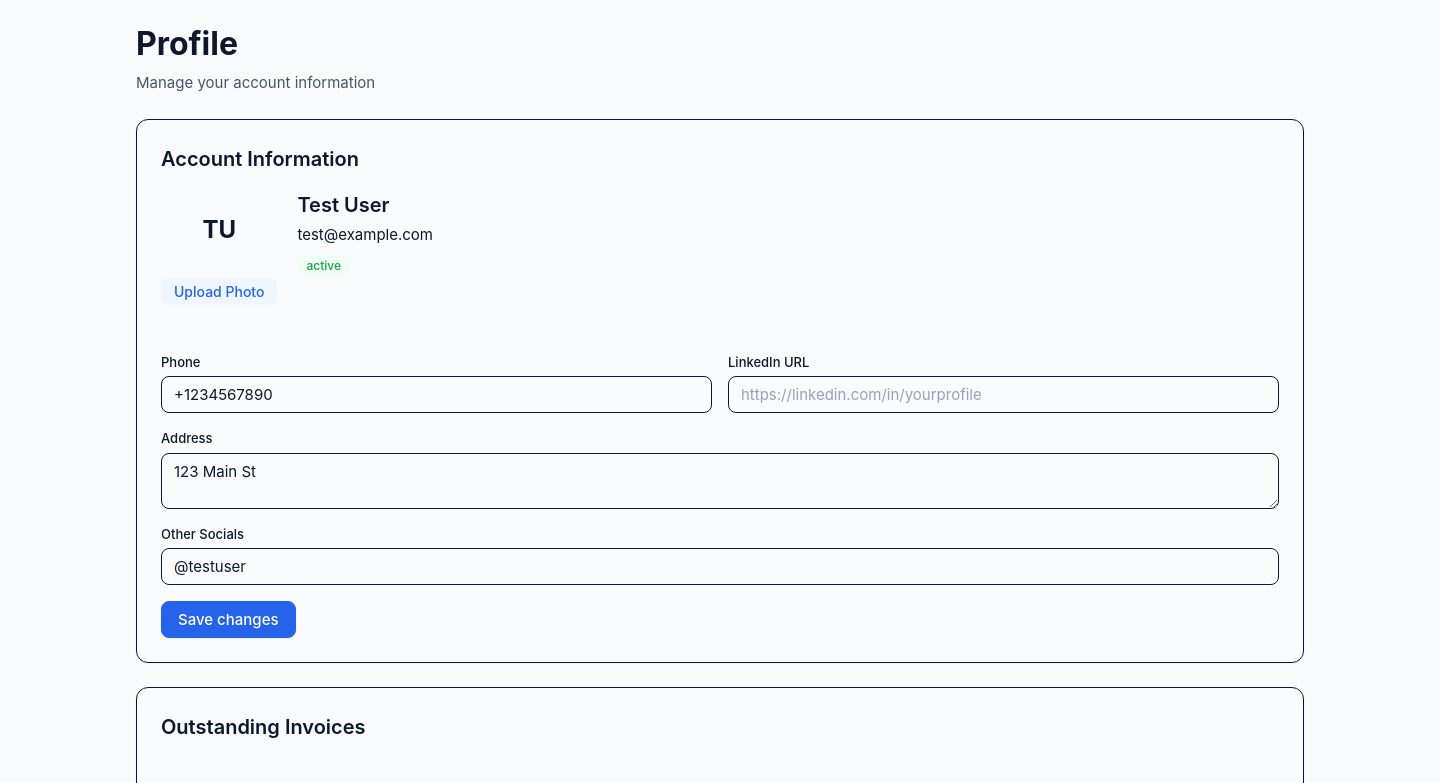
Scenario: ProfilePage › LinkedIn URL validation › shows validation error for URL without linkedin.com
The width and height of the screenshot is (1440, 783).
Expected: the field showing "+1234567890" below "Phone" is shown, [161,376,712,413]
Note: Enter URL without linkedin.com
Type "https://example.com/profile" into the field with placeholder "https://linkedin.com/in/yourprofile" at [1004, 394], box [728,376,1279,413]
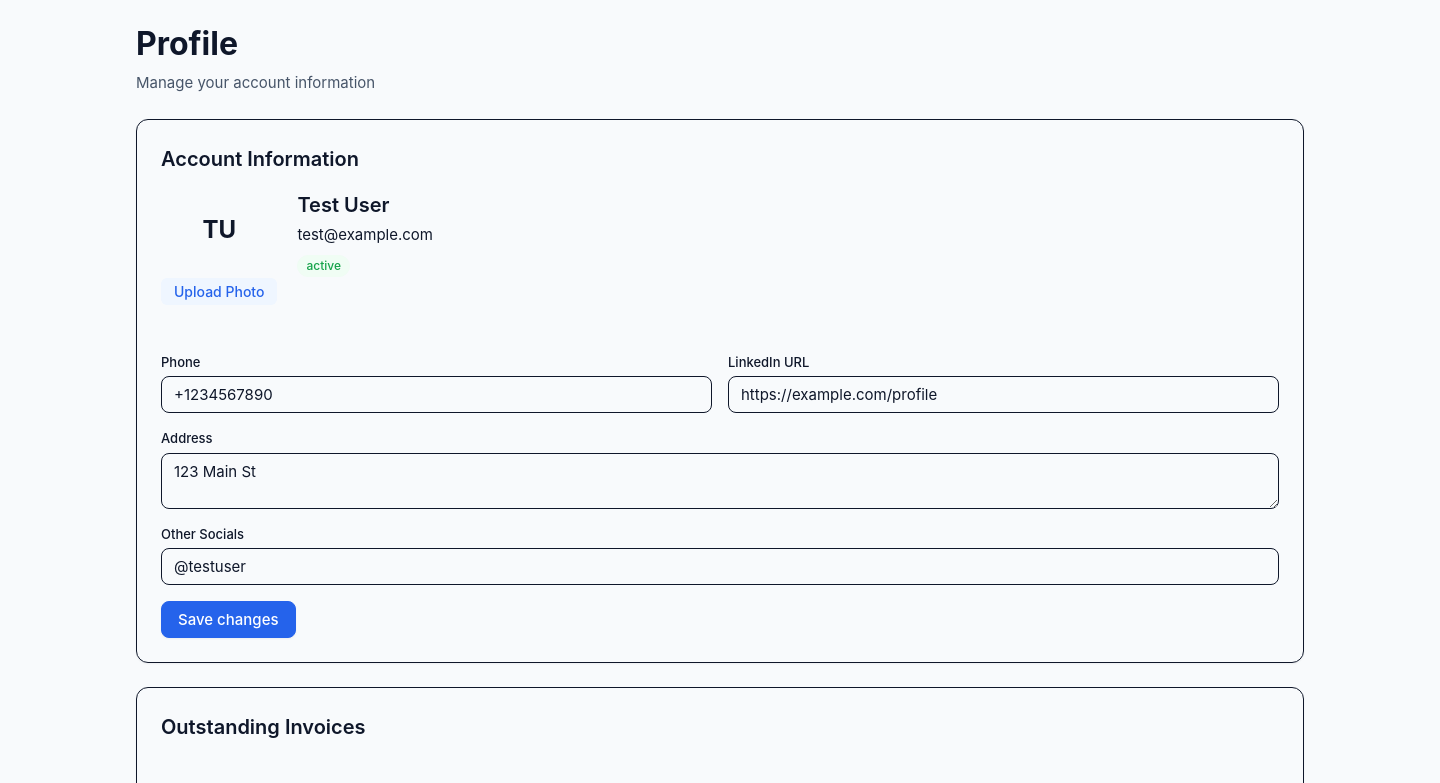
Note: Try to save
Click the button "Save changes" at [228, 620], box [161,601,296,638]
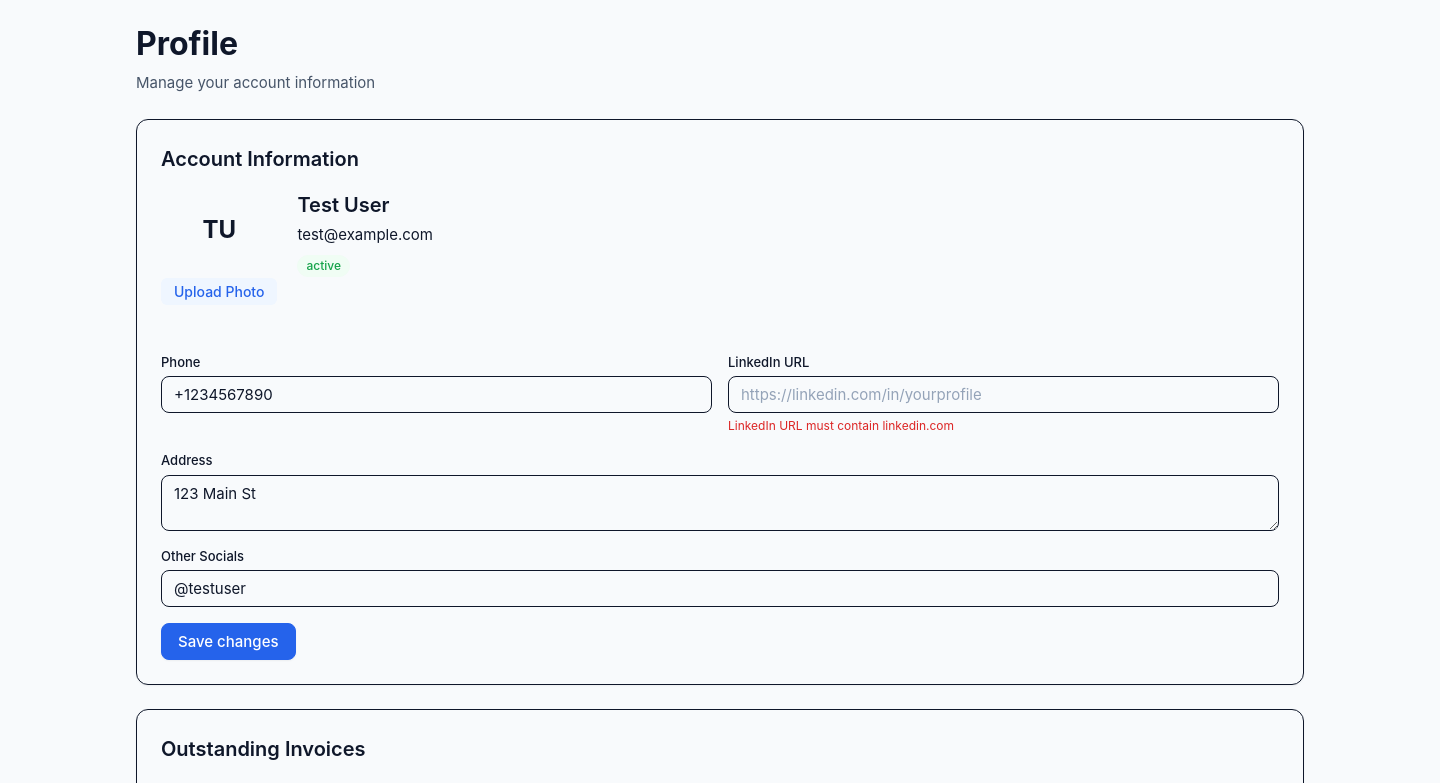
Expected: the text "LinkedIn URL must contain linkedin.com" is shown, [728,418,954,433]
